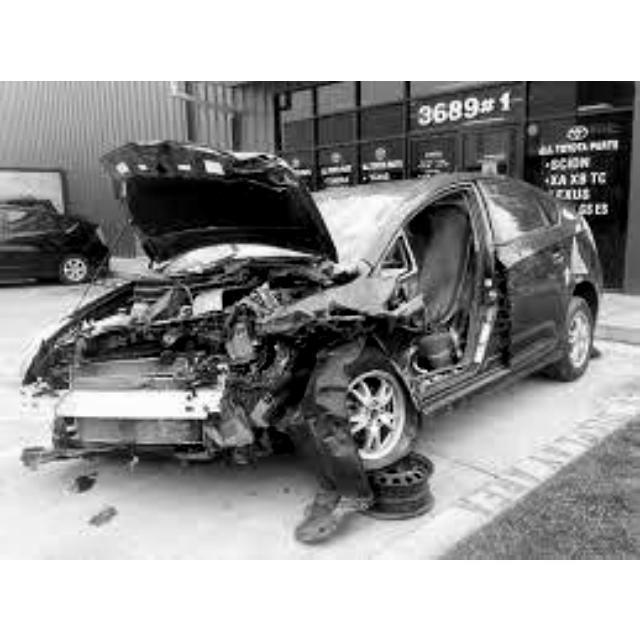doorouter-dent: (406, 206, 507, 364)
fender-dent: (287, 273, 403, 357)
front-bumper-dent: (32, 360, 244, 448)
